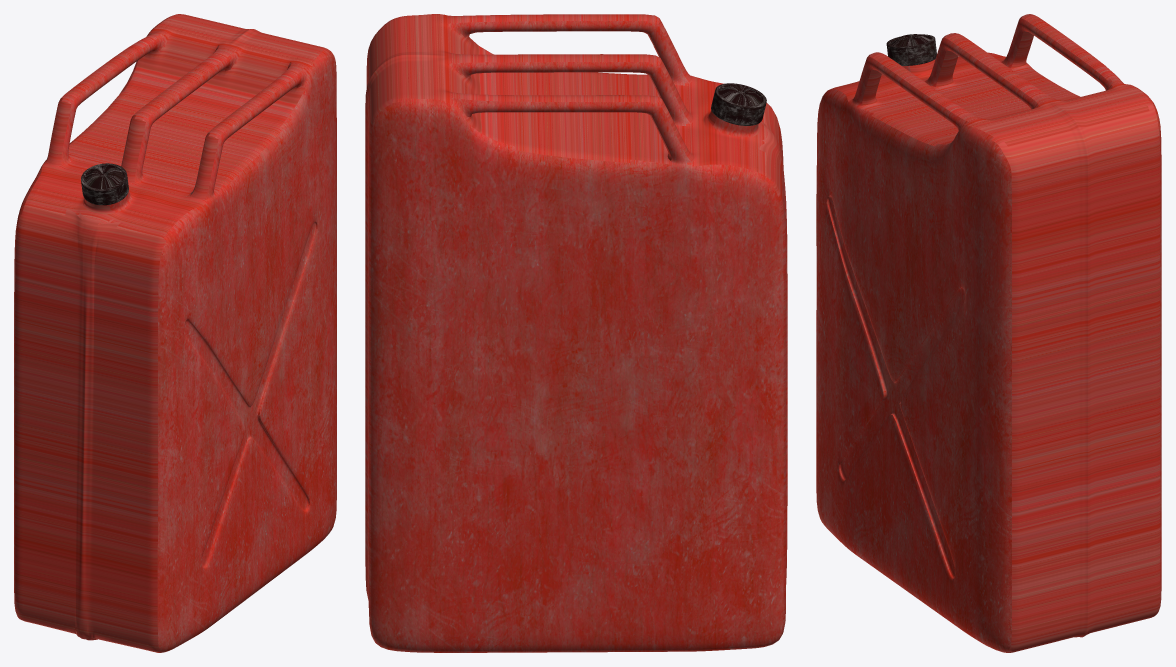
File: can.obj
3 views of the same model, side by side, from view 1: azimuth 30°, elevation 25°; view 2: azimuth 150°, elevation 25°; view 3: azimuth 270°, elevation 25° (orthographic). The views are drawn at different scales.
Parts seen in each view (by area): view 1: petrol, petrol_kat; view 2: petrol, petrol_kat; view 3: petrol, petrol_kat.
Part boxes in pixels (x1,y1,x2,y2): petrol: (14, 14, 336, 652); petrol_kat: (81, 163, 128, 205); petrol: (365, 14, 787, 652); petrol_kat: (711, 83, 766, 125); petrol: (816, 14, 1161, 652); petrol_kat: (886, 34, 936, 65).
Bounding box in the file's own units: 137 × 188 × 114.
